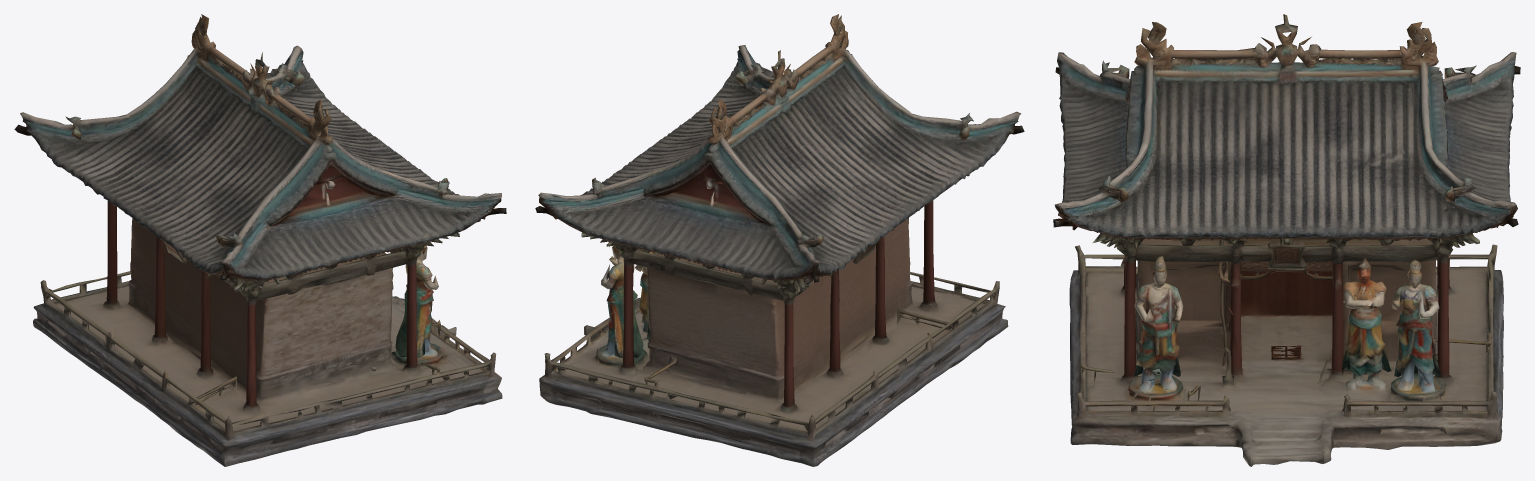
Rendered from building-shuanglinsi.glb.
3 renders of one model, left to right at view 1: azimuth 30°, elevation 25°; view 2: azimuth 150°, elevation 25°; view 3: azimuth 270°, elevation 25°, orthographic. The views are drawn at different scales.
Visible parts, largest first — view 1: node_ac633803-775d-4482-957d-49a91606e2e9; view 2: node_ac633803-775d-4482-957d-49a91606e2e9; view 3: node_ac633803-775d-4482-957d-49a91606e2e9.
Boxes of the visible parts, <box> form: node_ac633803-775d-4482-957d-49a91606e2e9: <box>14,14,506,466</box>; node_ac633803-775d-4482-957d-49a91606e2e9: <box>535,14,1024,466</box>; node_ac633803-775d-4482-957d-49a91606e2e9: <box>1053,14,1520,466</box>.
Size of the model in its own units: 0.8969 by 0.8403 by 1.
Materials: 1 (1 with a texture image).
